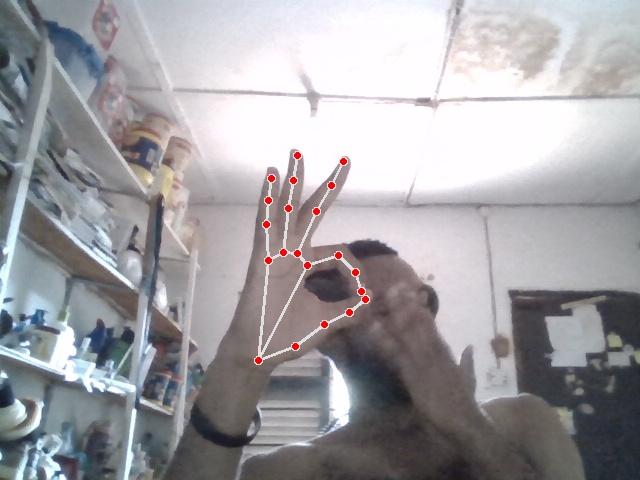okay: (232, 148, 373, 373)
